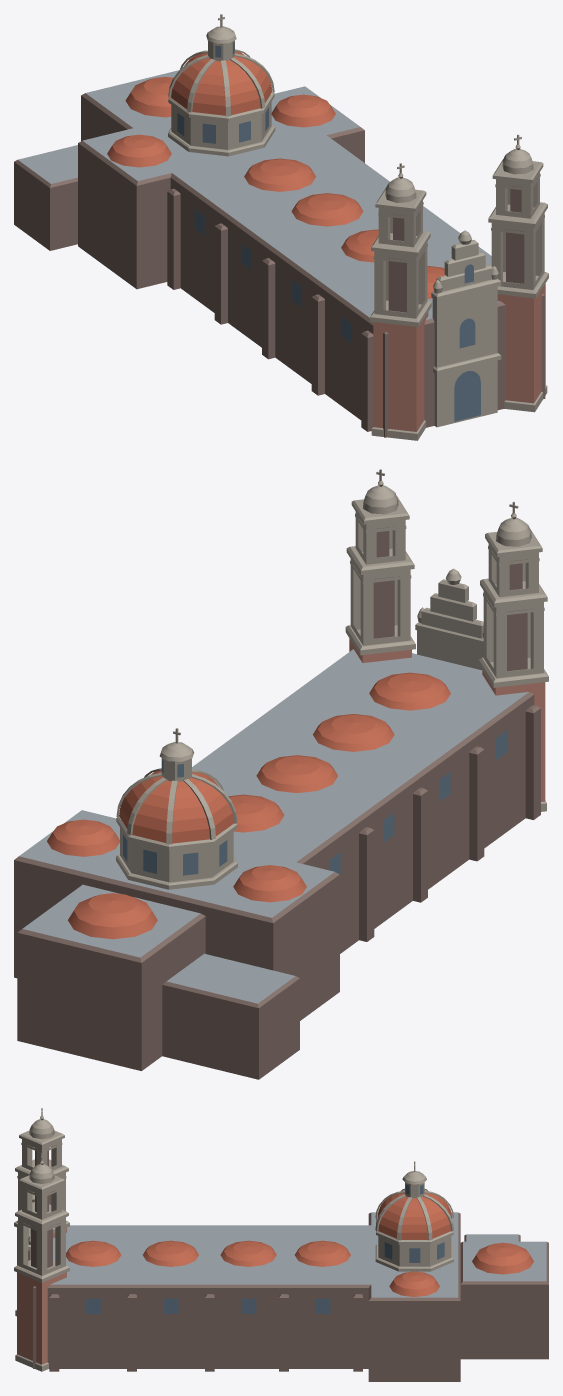
File: mexico-city-san-hipolito.glb
3 renders of one model, top to bottom at view 1: azimuth 30°, elevation 25°; view 2: azimuth 150°, elevation 25°; view 3: azimuth 270°, elevation 25°, orthographic. The views are drawn at different scales.
Parts seen in each view (by area): view 1: Templo de San Hipólito; view 2: Templo de San Hipólito; view 3: Templo de San Hipólito.
Part boxes in pixels (x1,y1,x2,y2): Templo de San Hipólito: [14, 14, 548, 440]; Templo de San Hipólito: [14, 469, 548, 1079]; Templo de San Hipólito: [14, 1108, 548, 1381].
Size of the model in its own units: 32.5 by 32.4 by 75.71.
